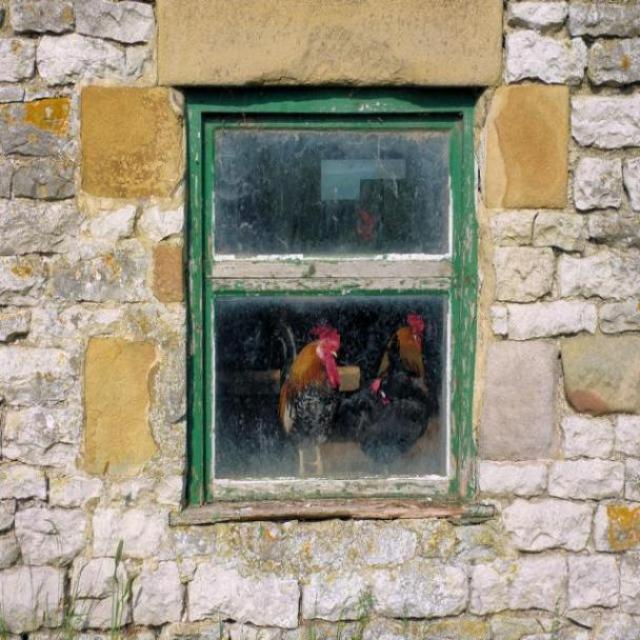Chicken: (338, 299, 434, 487), (281, 308, 359, 436), (327, 194, 385, 264)
